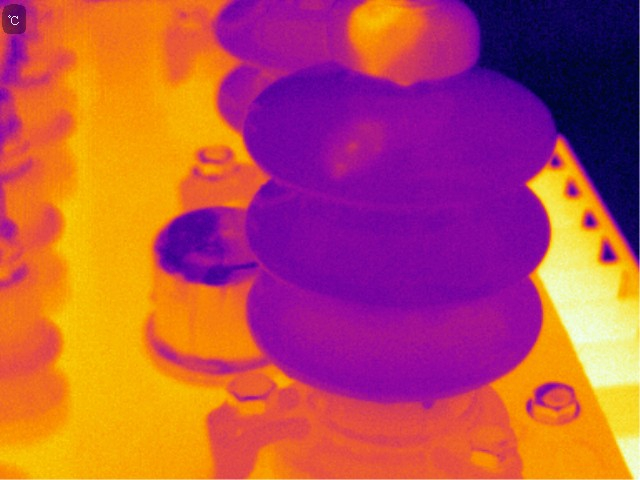Oil: (340, 1, 453, 92), (320, 114, 390, 184), (419, 393, 437, 411)
